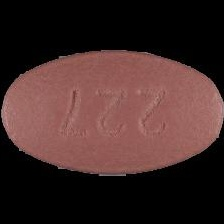50090-1085: (0, 0, 224, 224)
